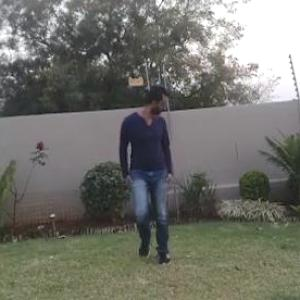follow: (120, 78, 184, 283)
